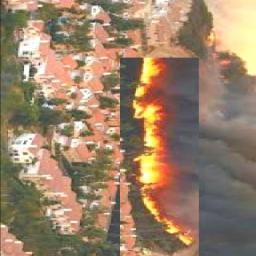Large fire: (118, 55, 188, 256)
